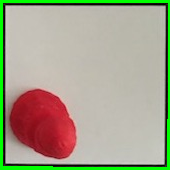Red Bishop: (8, 87, 85, 162)
